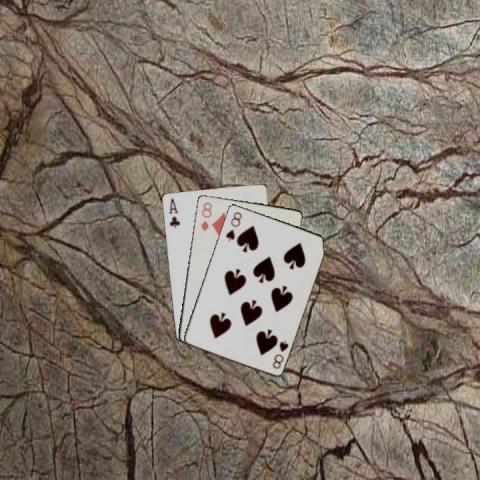8d: (198, 198, 213, 232)
8s: (223, 208, 243, 243), (269, 337, 290, 370)
Ac: (166, 196, 181, 229)
